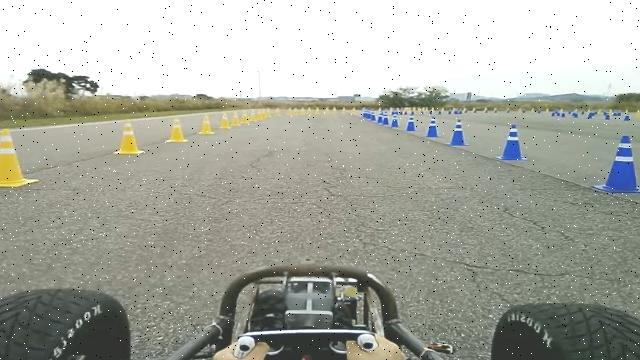blue cone: (592, 134, 640, 193), (494, 124, 530, 160), (447, 119, 471, 146), (425, 116, 442, 138), (405, 116, 418, 131), (376, 108, 387, 123), (362, 108, 374, 120), (380, 110, 389, 124), (391, 116, 400, 128)
yellow cone: (0, 127, 40, 187), (0, 128, 22, 181), (114, 119, 146, 155), (166, 118, 188, 142), (198, 114, 216, 134), (219, 112, 232, 129), (232, 113, 242, 126), (241, 111, 250, 124), (248, 109, 257, 122), (274, 106, 282, 117), (263, 108, 271, 119)
